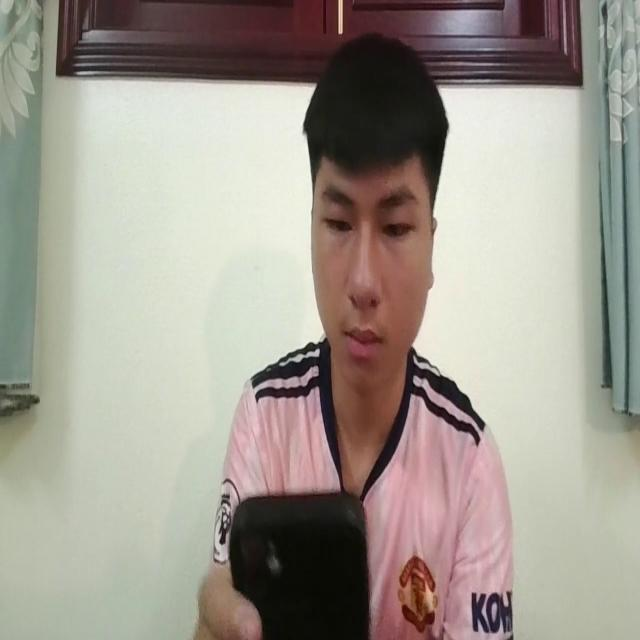phone: (228, 482, 368, 640)
student: (191, 26, 512, 640)
